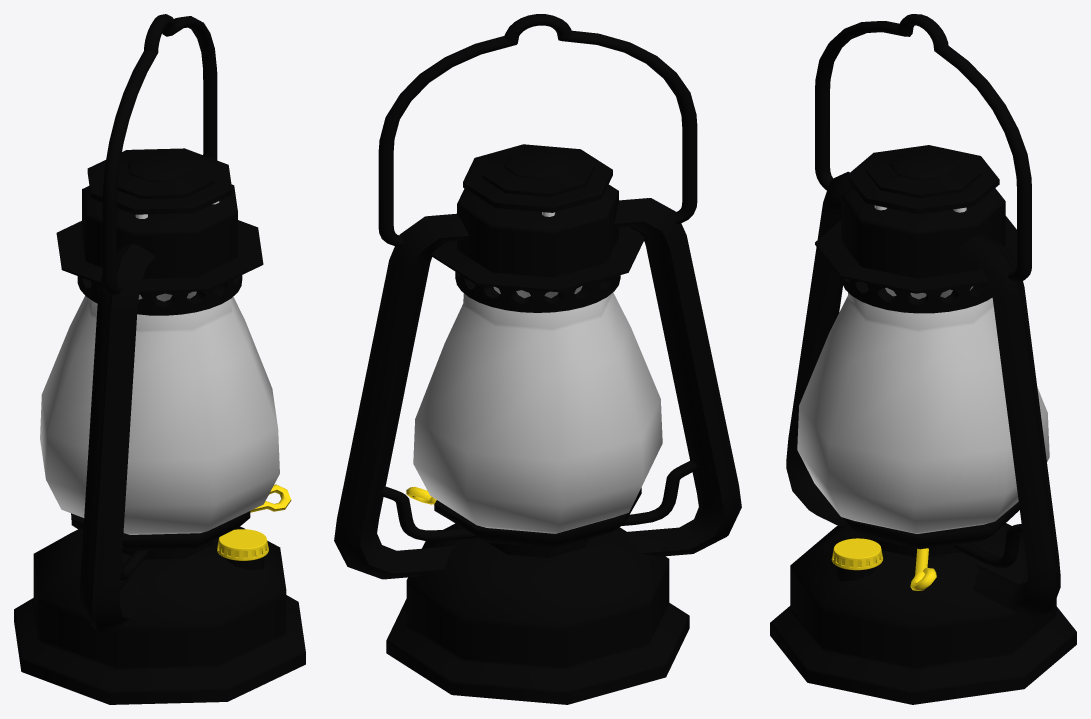
The picture shows the model from 3 angles, left to right: view 1: azimuth 30°, elevation 25°; view 2: azimuth 150°, elevation 25°; view 3: azimuth 270°, elevation 25°; orthographic projection.
Visible parts, largest first — view 1: glass, bottom, side_guard_2, hat, top, handle.002, vent, cap, on_pin; view 2: glass, bottom, side_guard_1, side_guard_2, hat, handle.002, top, vent, connector_2, connector_1; view 3: glass, bottom, side_guard_1, hat, handle.002, top, side_guard_2, vent, cap, connector_2, on_pin.
Boxes of the visible parts, x1,y1,x2,y2 form: glass: [40, 291, 279, 534]; bottom: [14, 511, 305, 704]; side_guard_2: [79, 243, 155, 632]; hat: [56, 184, 263, 292]; top: [87, 148, 232, 214]; handle.002: [102, 14, 217, 295]; vent: [77, 275, 242, 315]; cap: [217, 529, 268, 560]; on_pin: [250, 484, 291, 512]; glass: [413, 286, 662, 533]; bottom: [386, 487, 689, 704]; side_guard_1: [334, 213, 469, 579]; side_guard_2: [614, 198, 741, 556]; hat: [431, 184, 644, 292]; handle.002: [378, 14, 697, 246]; top: [463, 144, 612, 212]; vent: [455, 272, 620, 312]; connector_2: [380, 486, 478, 540]; connector_1: [622, 461, 697, 525]; glass: [797, 286, 1049, 533]; bottom: [770, 496, 1076, 704]; side_guard_1: [956, 234, 1060, 616]; hat: [815, 187, 1016, 293]; handle.002: [815, 14, 1031, 281]; top: [847, 145, 999, 214]; side_guard_2: [786, 171, 852, 526]; vent: [841, 278, 992, 313]; cap: [831, 538, 883, 570]; connector_2: [953, 524, 1022, 567]; on_pin: [910, 548, 936, 590].
Bounding box in the file's own units: 15.83 × 15.5 × 34.74.
